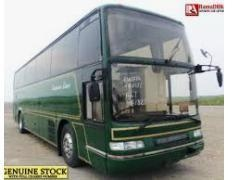bus: (12, 4, 204, 172)
